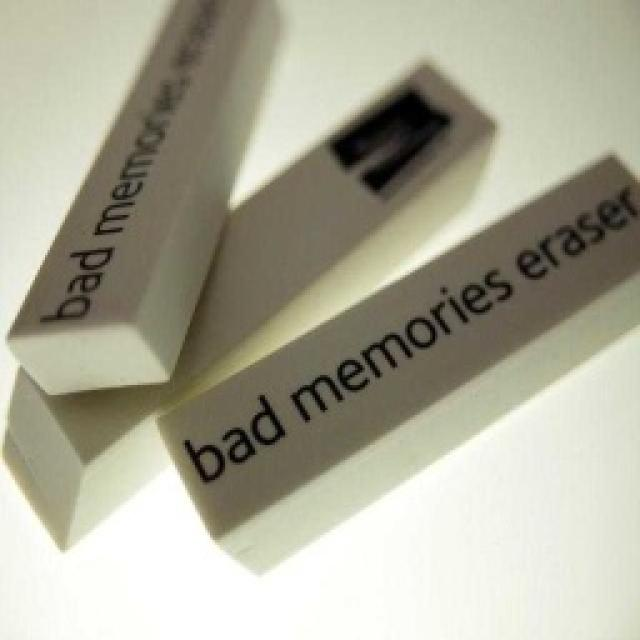Silgi: (155, 153, 640, 578)
